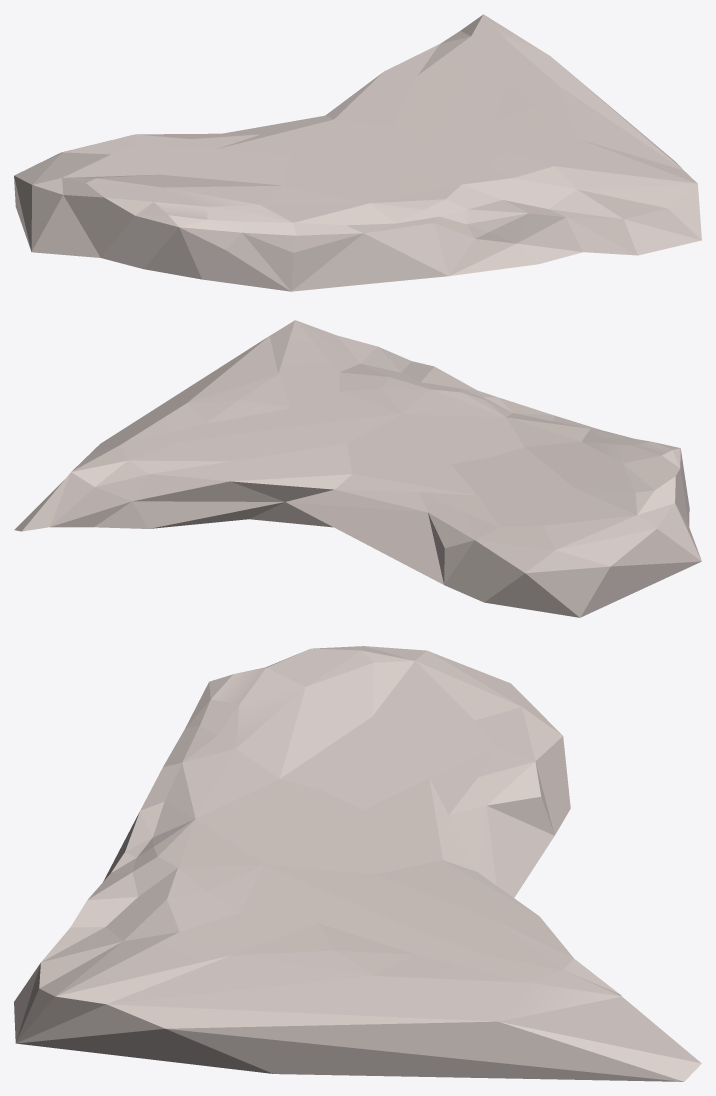
Rendered from mountain.012.fbx.
The picture shows the model from 3 angles, top to bottom: view 1: azimuth 30°, elevation 25°; view 2: azimuth 150°, elevation 25°; view 3: azimuth 270°, elevation 25°; orthographic projection. The views are drawn at different scales.
Visible parts, largest first — view 1: mountain_012; view 2: mountain_012; view 3: mountain_012.
Boxes of the visible parts, <box> form: mountain_012: <box>14,14,701,291</box>; mountain_012: <box>14,320,701,617</box>; mountain_012: <box>14,646,701,1081</box>.
Bounding box in the file's own units: 22178 × 3013 × 17734.
